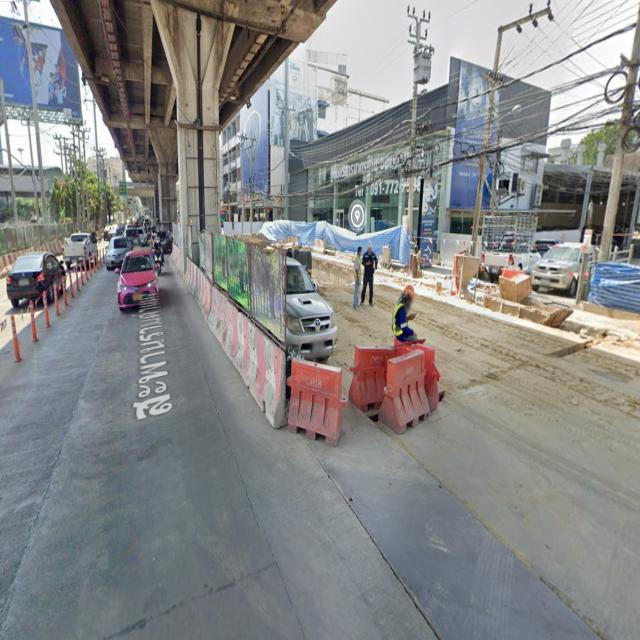fallen_object: (179, 257, 298, 418), (276, 336, 445, 449), (0, 290, 60, 360), (50, 246, 114, 300)
